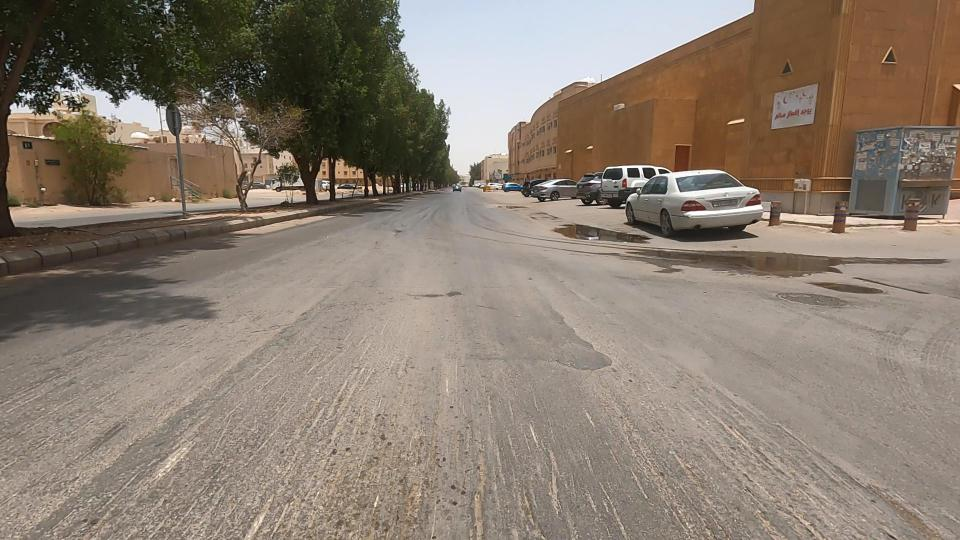POTHOLES: (363, 209, 427, 259), (484, 185, 537, 232)
